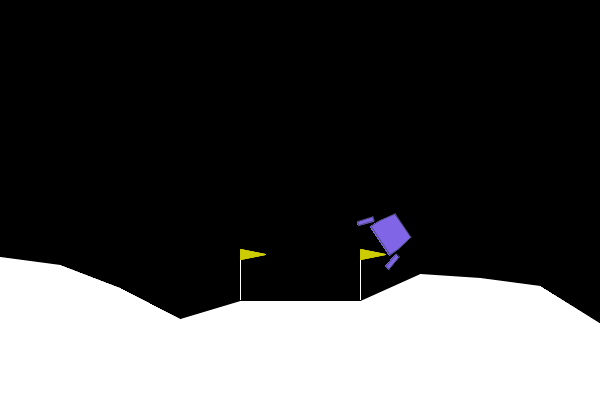lander: (354, 200, 421, 272)
